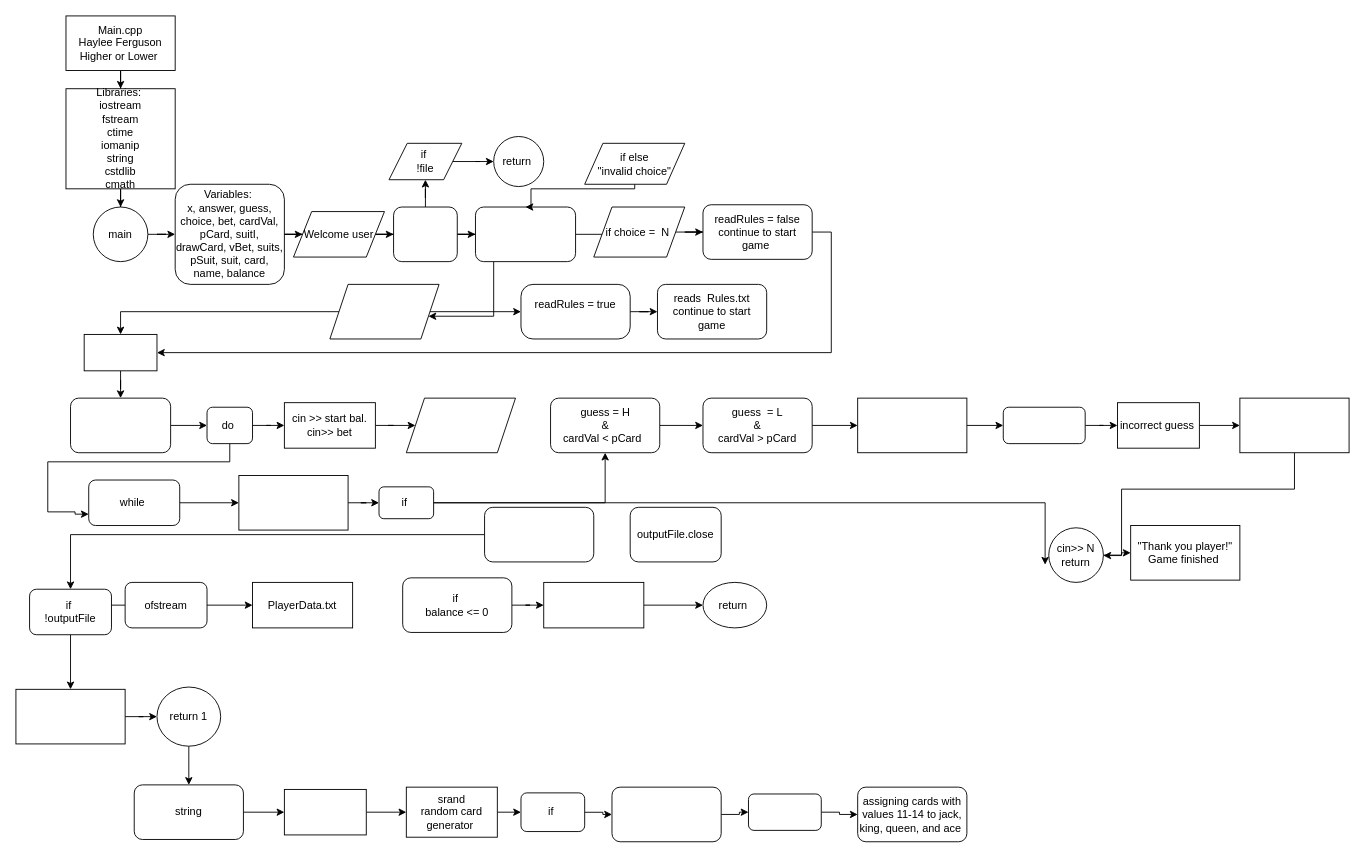
The diagram is 1365 pixels wide and 858 high, and some of its shapes have lost their labels. The centre of each missing label's shape, as x and y in pixels:
"Failed to create file": [70,716]
"You've run out of funds. Game over": [593,604]
balance > 0 & choice = Y: [293,502]
bool readRules = true/false: [425,234]
cardVal >= 2 && cardVal <= 10: [666,814]
continue playing? cin>> Y or N: [1294,425]
correct guess: [912,425]
drawing a card: [324,812]
else: [1043,425]
for loop to validate readRules: [525,234]
if bet > balance "Place new bet": [460,425]
if choice = Y ifstream file: [384,311]
if x = Y "Let's Begin": [120,425]
output file player: money:: [539,534]
start game?: [120,352]
switch: [784,811]
